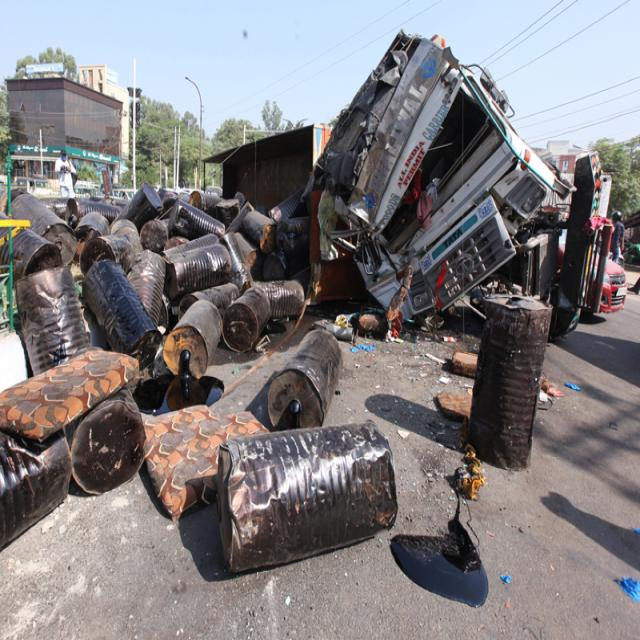accident: (314, 34, 610, 335)
